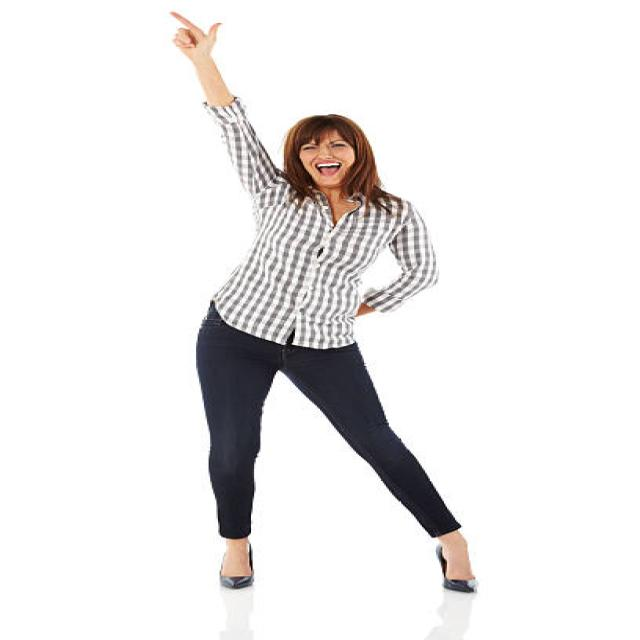Edited images: (151, 2, 497, 605)
